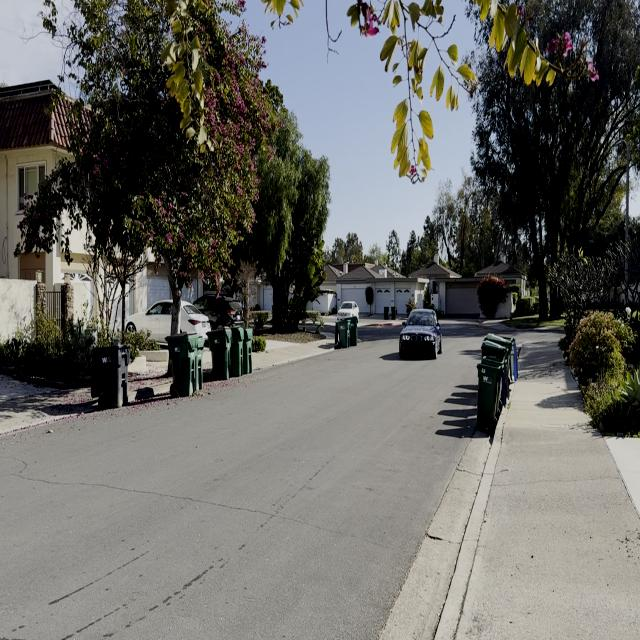Carbeetle: (391, 294, 447, 370)
